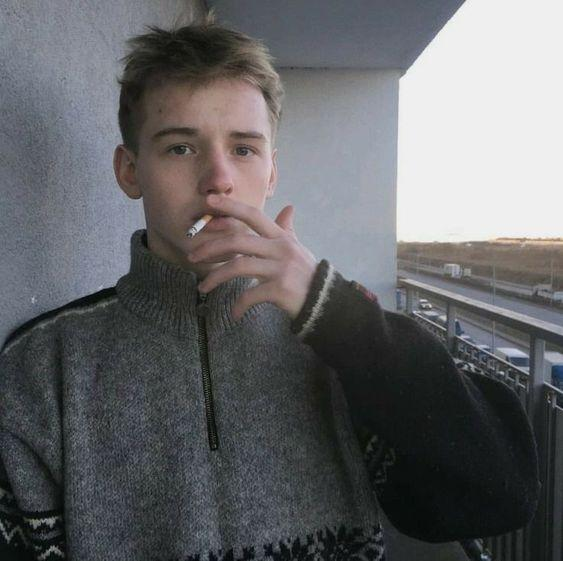cigarette: (186, 214, 214, 239)
